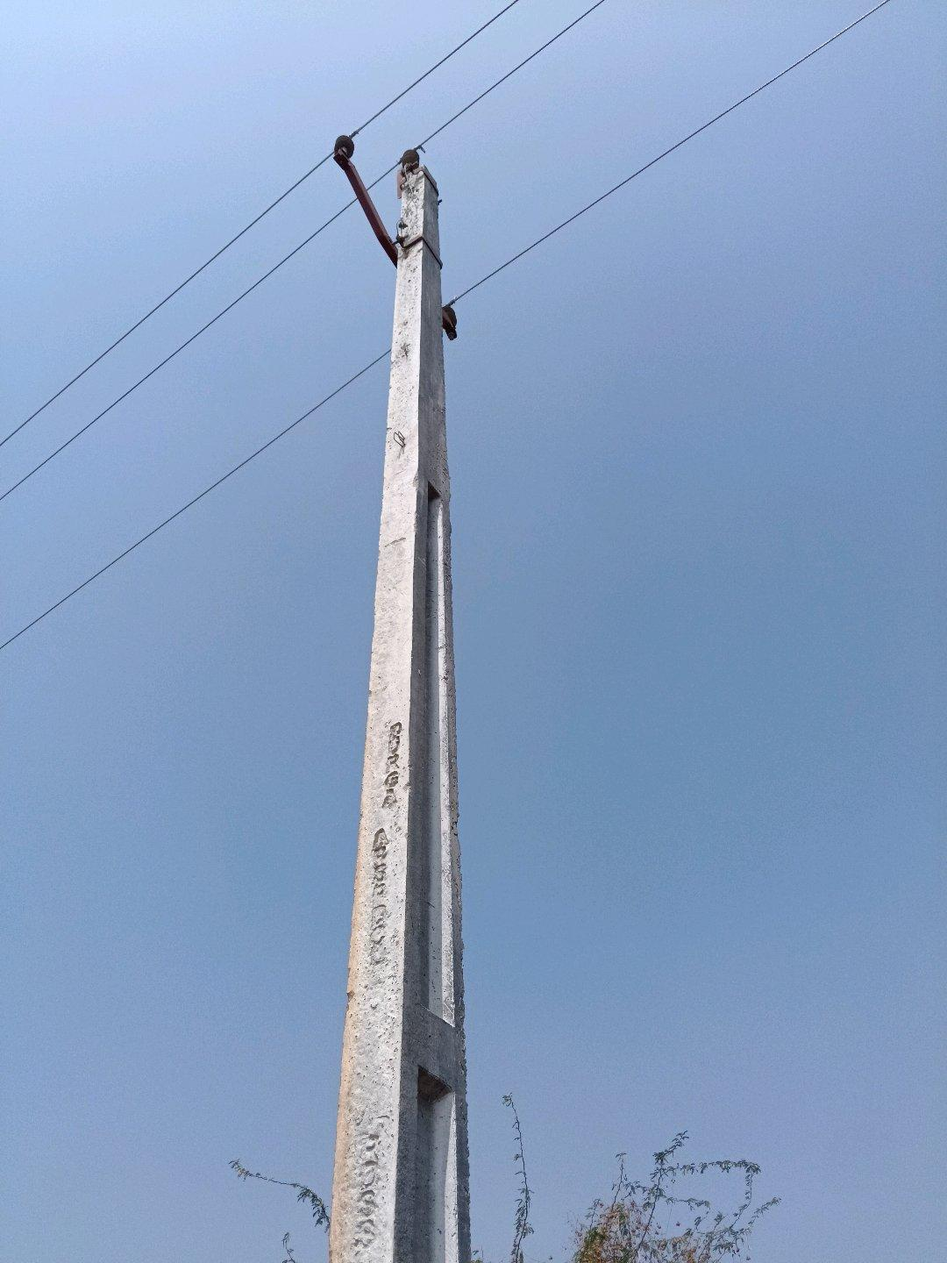{"0" "insulator", "1" "pole", "2" "crossarm", "3" "conductor", "4" "street_: (330, 136, 469, 1262), (347, 376, 355, 387)
